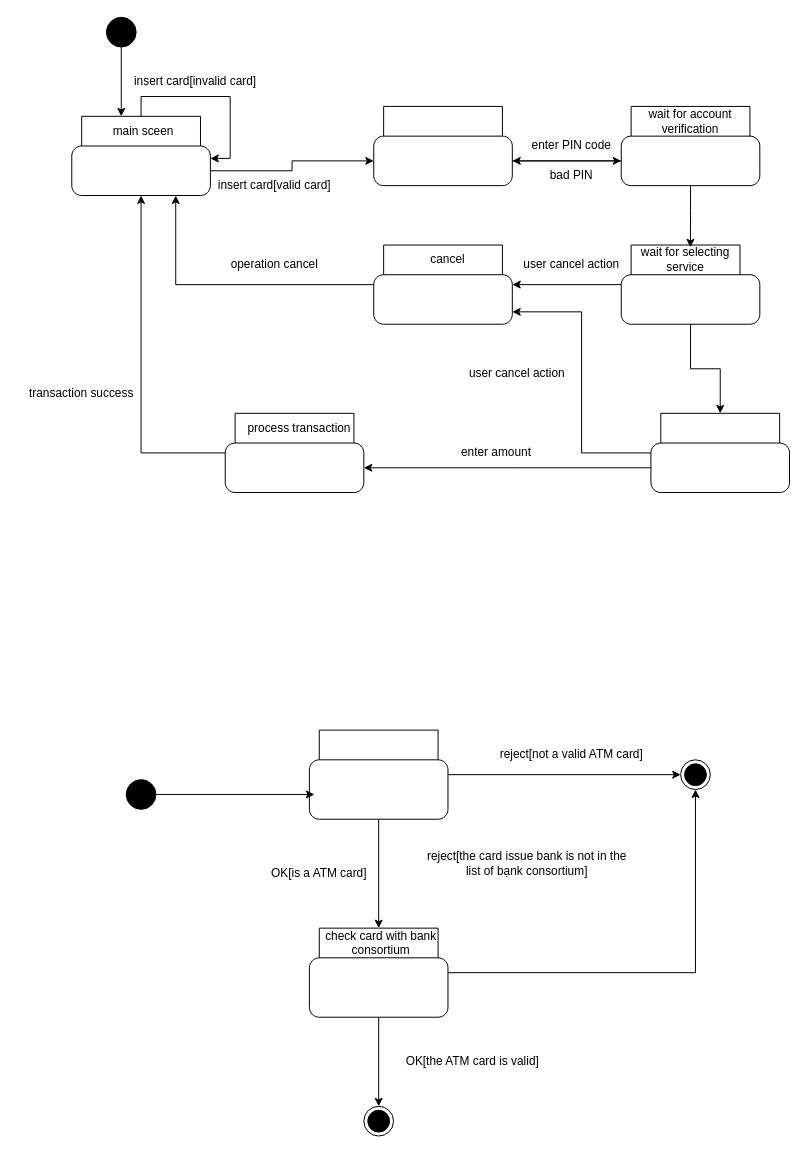
Some shapes in this 807 by 1153 pixel diagram are drawn without their labels. The centre of each missing label's shape, as x and y in pixels:
check card type: [378,774]
wait for entering amount: [720,452]
wait for pin: [442,145]
